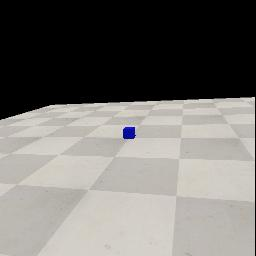box: (123, 127, 136, 139)
